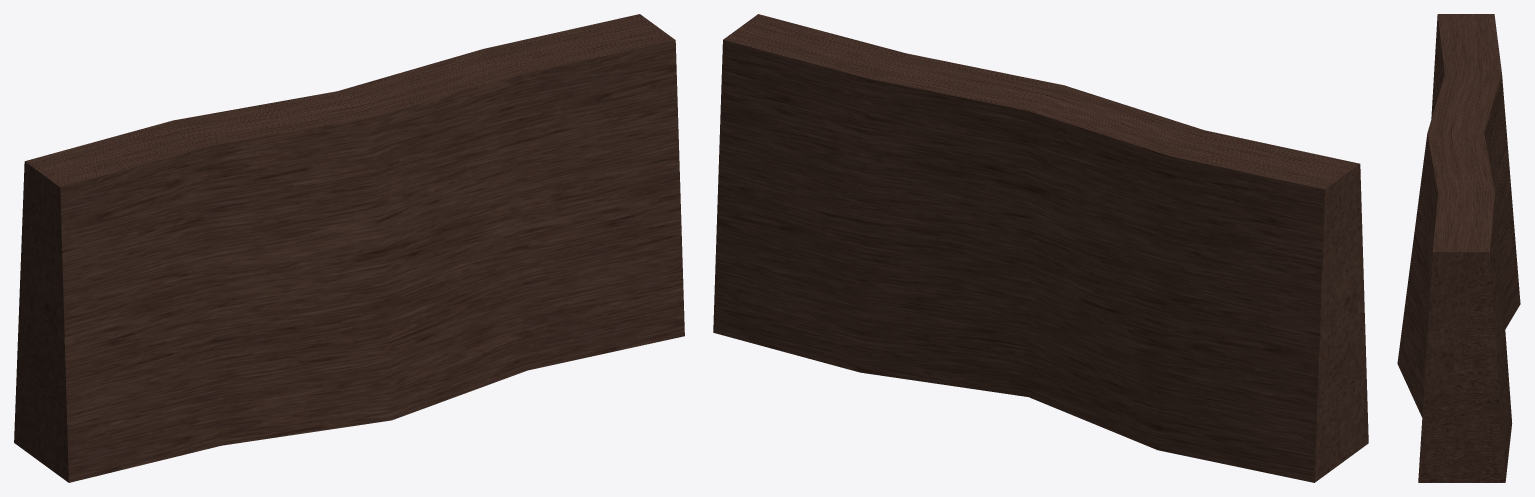
Rendered from Wall.fbx.
3 renders of one model, left to right at view 1: azimuth 30°, elevation 25°; view 2: azimuth 150°, elevation 25°; view 3: azimuth 270°, elevation 25°, orthographic. The views are drawn at different scales.
Parts seen in each view (by area): view 1: wall; view 2: wall; view 3: wall.
Boxes of the visible parts, <box> form: wall: <box>14,14,684,482</box>; wall: <box>713,14,1368,482</box>; wall: <box>1397,14,1520,482</box>.
Size of the model in its own units: 7.92 by 3.58 by 1.73.
Materials: 1 (1 with a texture image).
